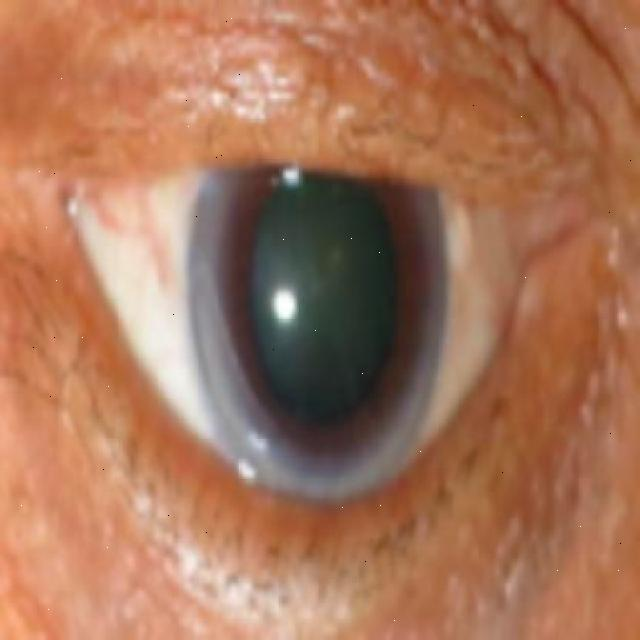Cataract: (180, 98, 453, 500)
